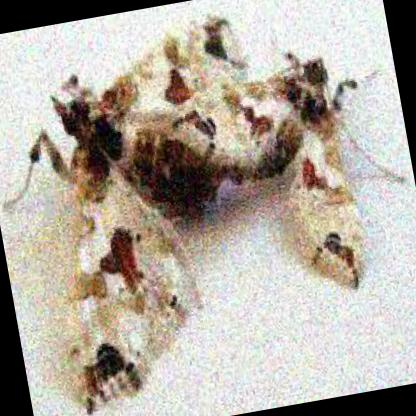leucinodes: (29, 17, 244, 411), (147, 55, 362, 277)
